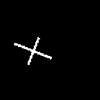single_crochet: (14, 38, 51, 64)
